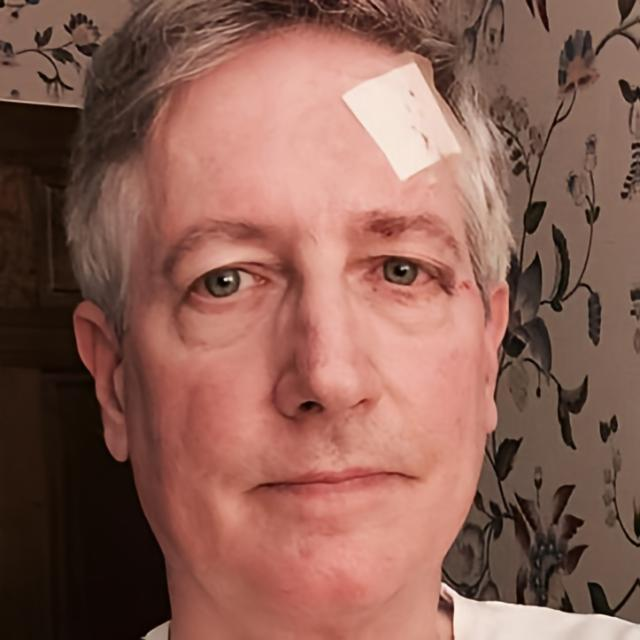content: (121, 22, 489, 628)
